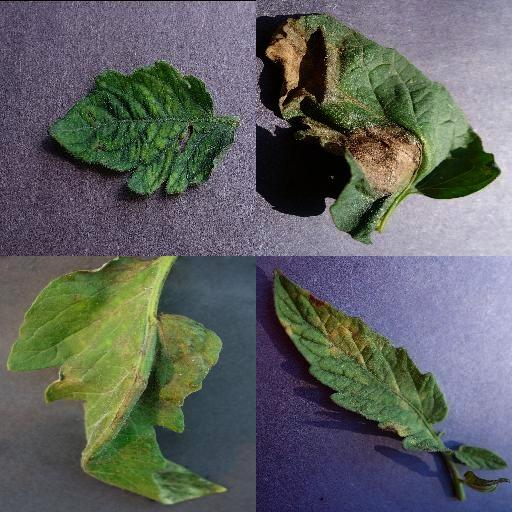Late Blight: (265, 10, 501, 246), (4, 256, 226, 505)
Leaf Mold: (270, 266, 448, 452)
Mosaic Virus: (44, 60, 238, 196)
